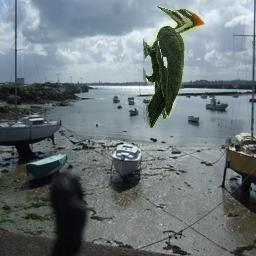Woodpecker: (143, 6, 205, 128)
